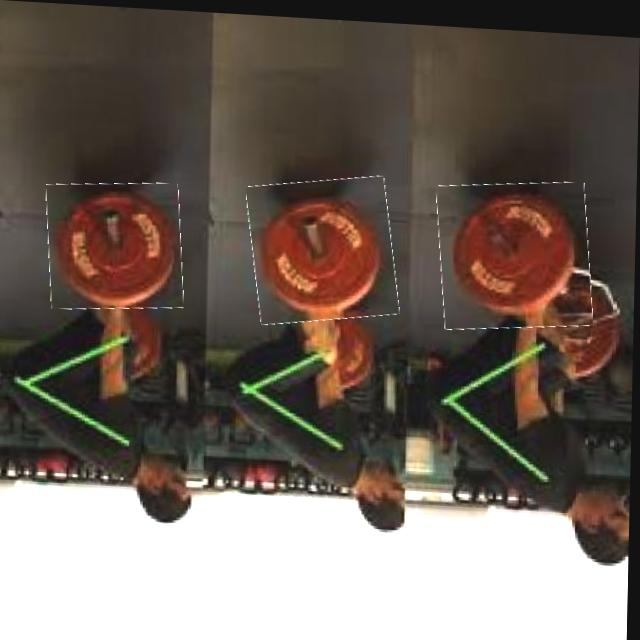barbell: (438, 173, 594, 329), (250, 171, 399, 324), (48, 178, 186, 313)
